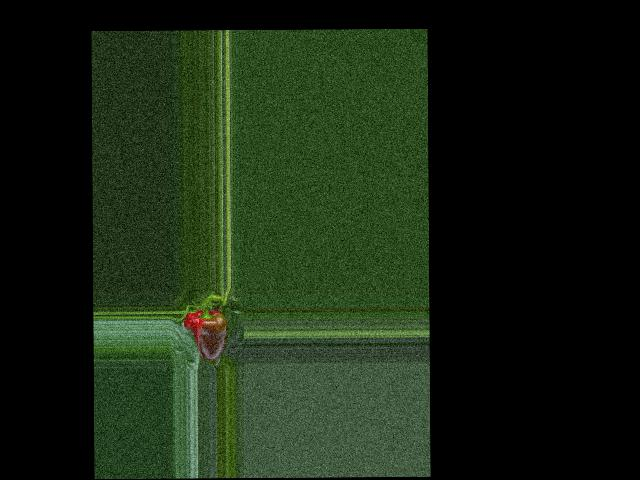bell_pepper: (181, 302, 233, 364)
